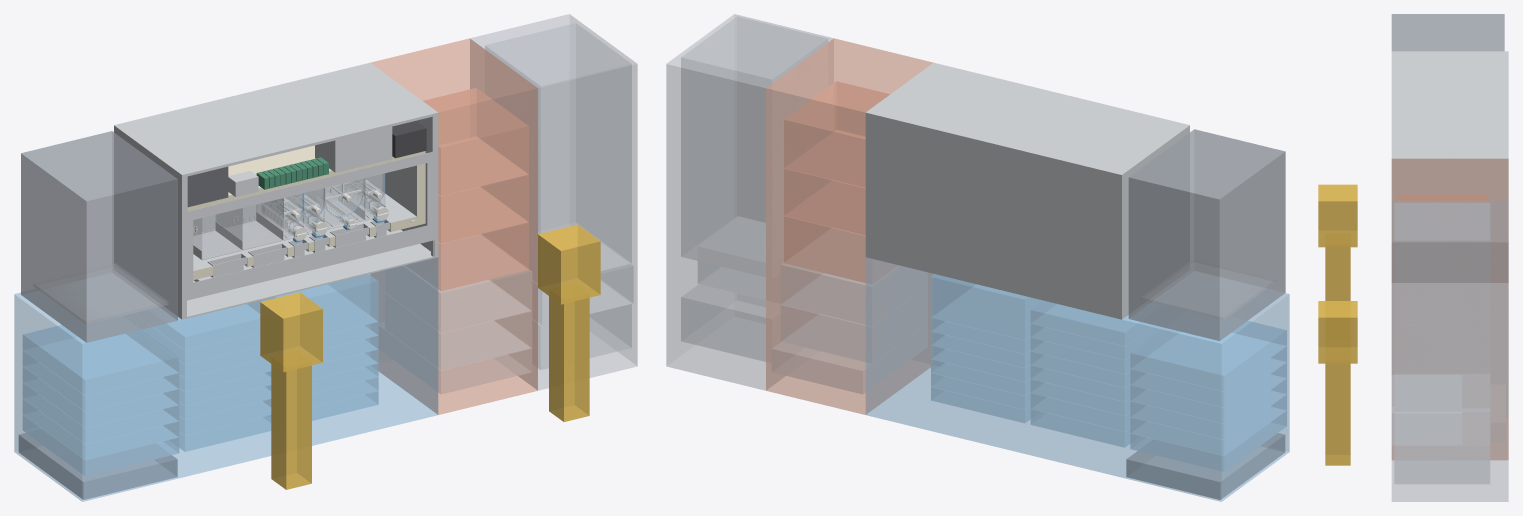
Rendered from hat_v10.glb.
3 views of the same model, side by side, from view 1: azimuth 30°, elevation 25°; view 2: azimuth 150°, elevation 25°; view 3: azimuth 270°, elevation 25° (orthographic). The views are drawn at different scales.
Visible parts, largest first — view 1: B_KABIN, TOPPING_MODUL__sac, D_KABIN, E_KABIN, PRESS, E_SARJOR, FIRIN_3, CEK_K1_hamur_6, B_SOGUTMA, ROBOT_2, ROBOT_1, PRESS_PLAKA (+40 smaller); view 2: B_KABIN, TOPPING_MODUL__sac, D_KABIN, E_KABIN, PRESS, E_SARJOR, FIRIN_3, CEK_K1_hamur_6, B_SOGUTMA, E_MEK, PRESS_PLAKA, CEK_K3_icecek_1 (+25 smaller); view 3: E_KABIN, TOPPING_MODUL__sac, E_SARJOR, D_KABIN, E_MEK, PRESS, ROBOT_2, ROBOT_1_KOL, ROBOT_2_KOL, E_AGZ, ROBOT_1, FIRIN_3.
Boxes of the visible parts, <box> form: B_KABIN: <box>14,257,438,501</box>; TOPPING_MODUL__sac: <box>114,62,438,319</box>; D_KABIN: <box>370,38,537,414</box>; E_KABIN: <box>470,14,637,390</box>; PRESS: <box>21,131,177,342</box>; E_SARJOR: <box>485,23,631,270</box>; FIRIN_3: <box>423,88,528,195</box>; CEK_K1_hamur_6: <box>23,325,178,395</box>; B_SOGUTMA: <box>18,429,177,499</box>; ROBOT_2: <box>549,283,589,421</box>; ROBOT_1: <box>271,351,311,489</box>; PRESS_PLAKA: <box>33,263,168,324</box>; B_KABIN: <box>865,257,1289,501</box>; TOPPING_MODUL__sac: <box>865,62,1189,319</box>; D_KABIN: <box>766,38,933,414</box>; E_KABIN: <box>666,14,833,390</box>; PRESS: <box>1128,129,1285,340</box>; E_SARJOR: <box>681,16,827,277</box>; FIRIN_3: <box>784,81,889,187</box>; CEK_K1_hamur_6: <box>1130,321,1286,391</box>; B_SOGUTMA: <box>1126,429,1285,499</box>; E_MEK: <box>681,284,765,361</box>; PRESS_PLAKA: <box>1141,259,1275,320</box>; CEK_K3_icecek_1: <box>931,274,1042,339</box>; E_KABIN: <box>1391,200,1508,501</box>; TOPPING_MODUL__sac: <box>1391,51,1508,282</box>; E_SARJOR: <box>1394,203,1489,411</box>; D_KABIN: <box>1392,158,1508,459</box>; E_MEK: <box>1394,412,1489,483</box>; PRESS: <box>1391,14,1504,51</box>; ROBOT_2: <box>1325,363,1350,465</box>; ROBOT_1_KOL: <box>1318,184,1357,247</box>; ROBOT_2_KOL: <box>1318,301,1357,363</box>; E_AGZ: <box>1392,375,1461,444</box>; ROBOT_1: <box>1325,234,1350,300</box>; FIRIN_3: <box>1397,195,1487,200</box>.
Size of the model in its own units: 3.9 by 2.03 by 1.35.
